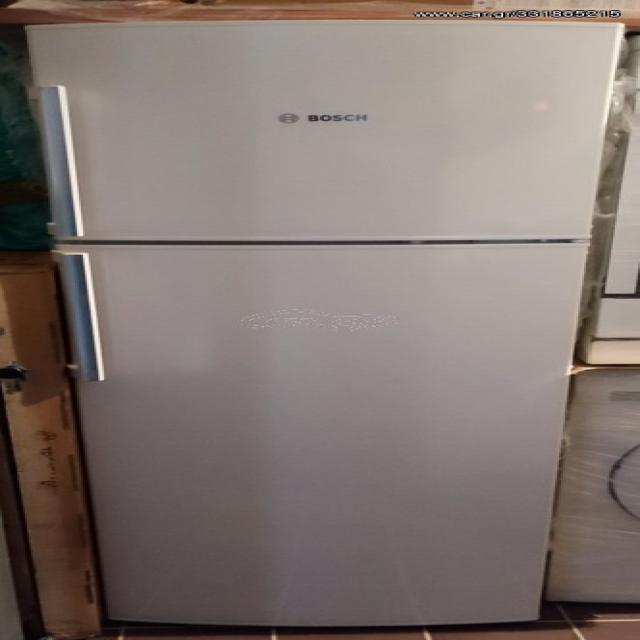refrigerator: (26, 21, 613, 632)
